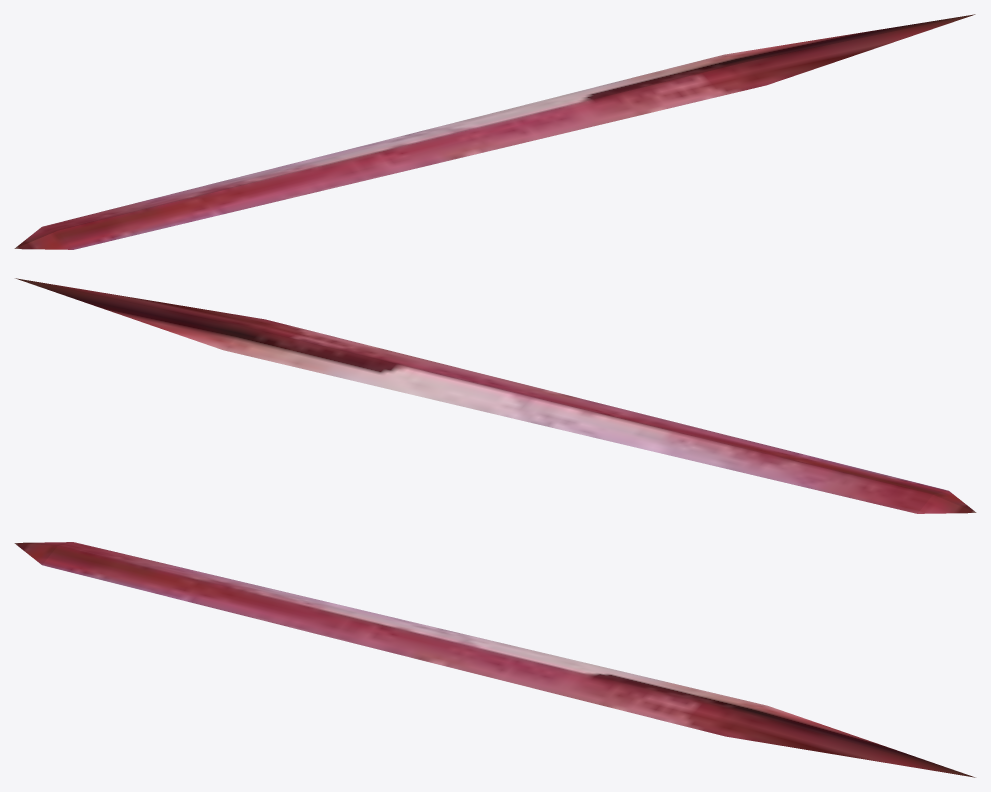
File: METEORYTOWE_OSTRZE.glb
3 views of the same model, one above another, from view 1: azimuth 30°, elevation 25°; view 2: azimuth 150°, elevation 25°; view 3: azimuth 330°, elevation 25° (orthographic).
Parts seen in each view (by area): view 1: METEORYTOWE_OSTRZE; view 2: METEORYTOWE_OSTRZE; view 3: METEORYTOWE_OSTRZE.
Boxes of the visible parts, box(x1,y1,x2,y2) form: METEORYTOWE_OSTRZE: box(14, 14, 975, 249); METEORYTOWE_OSTRZE: box(15, 278, 976, 513); METEORYTOWE_OSTRZE: box(14, 542, 975, 777).
Size of the model in its own units: 1.05 by 0.016 by 0.08.
Materials: 1 (1 with a texture image).
